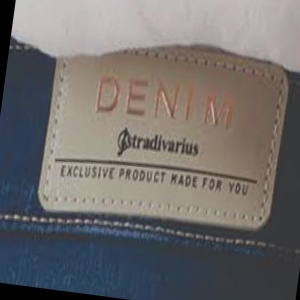stradivarius: (141, 52, 271, 213)
